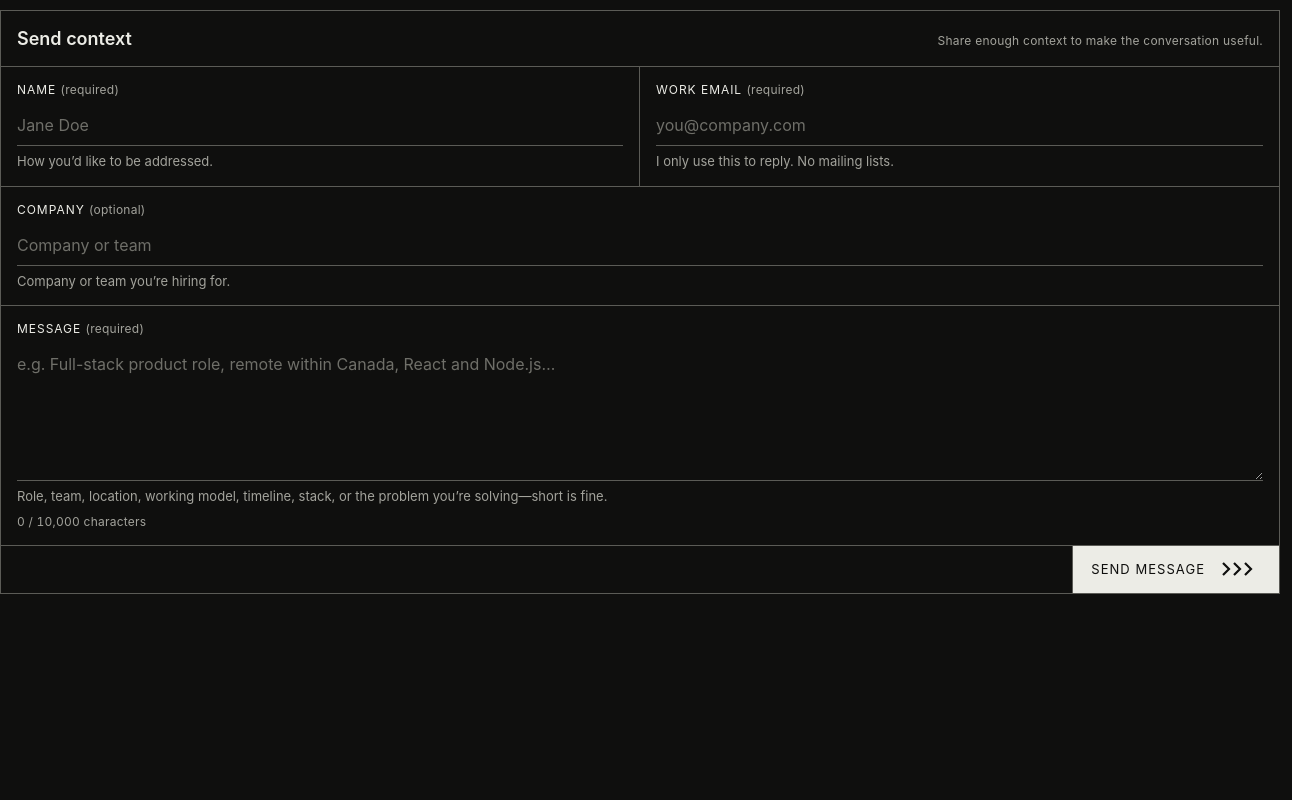
Test: ContactForm › should show validation error for invalid email
Type "Jane" into the field labelled "Name (required)" at {"x": 320, "y": 126}, box [17, 105, 623, 146]
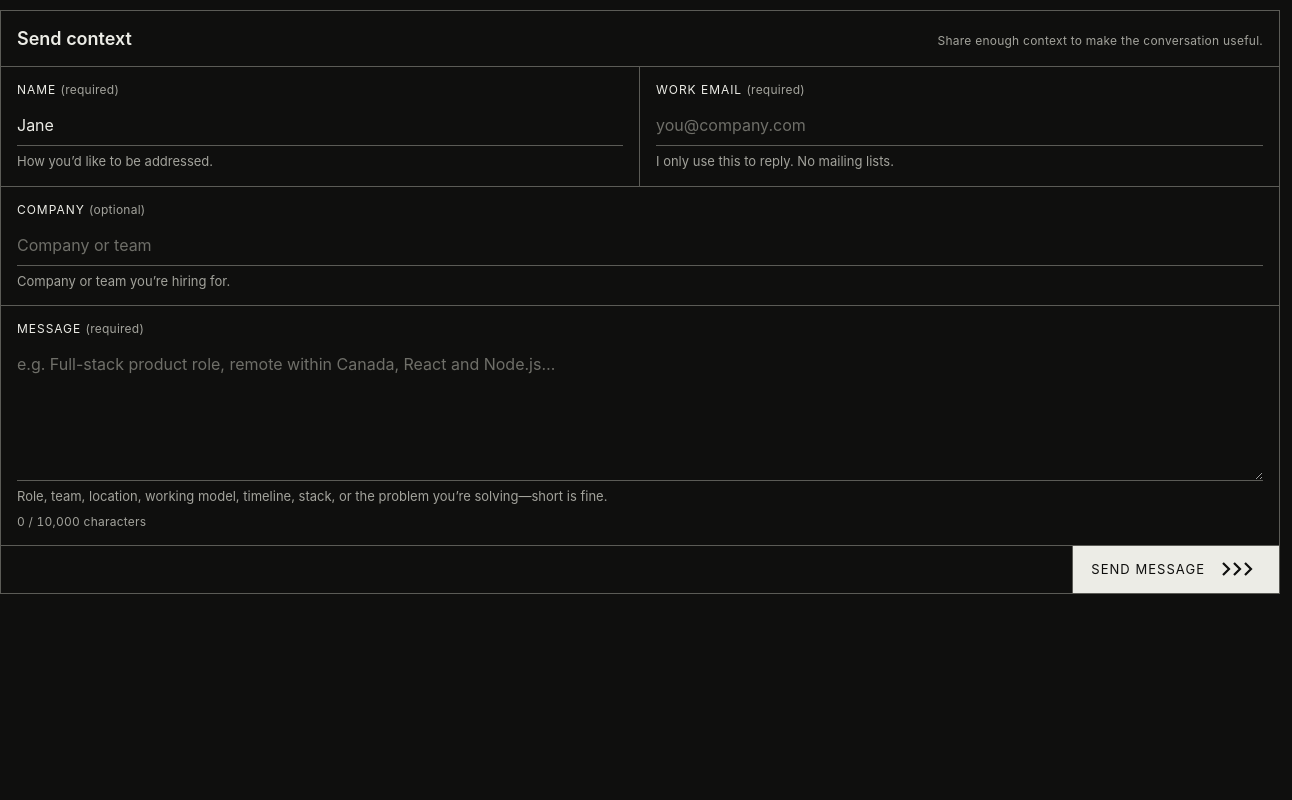
Type "bad-email" into the field labelled "Work email (required)" at {"x": 960, "y": 126}, box [656, 105, 1263, 146]
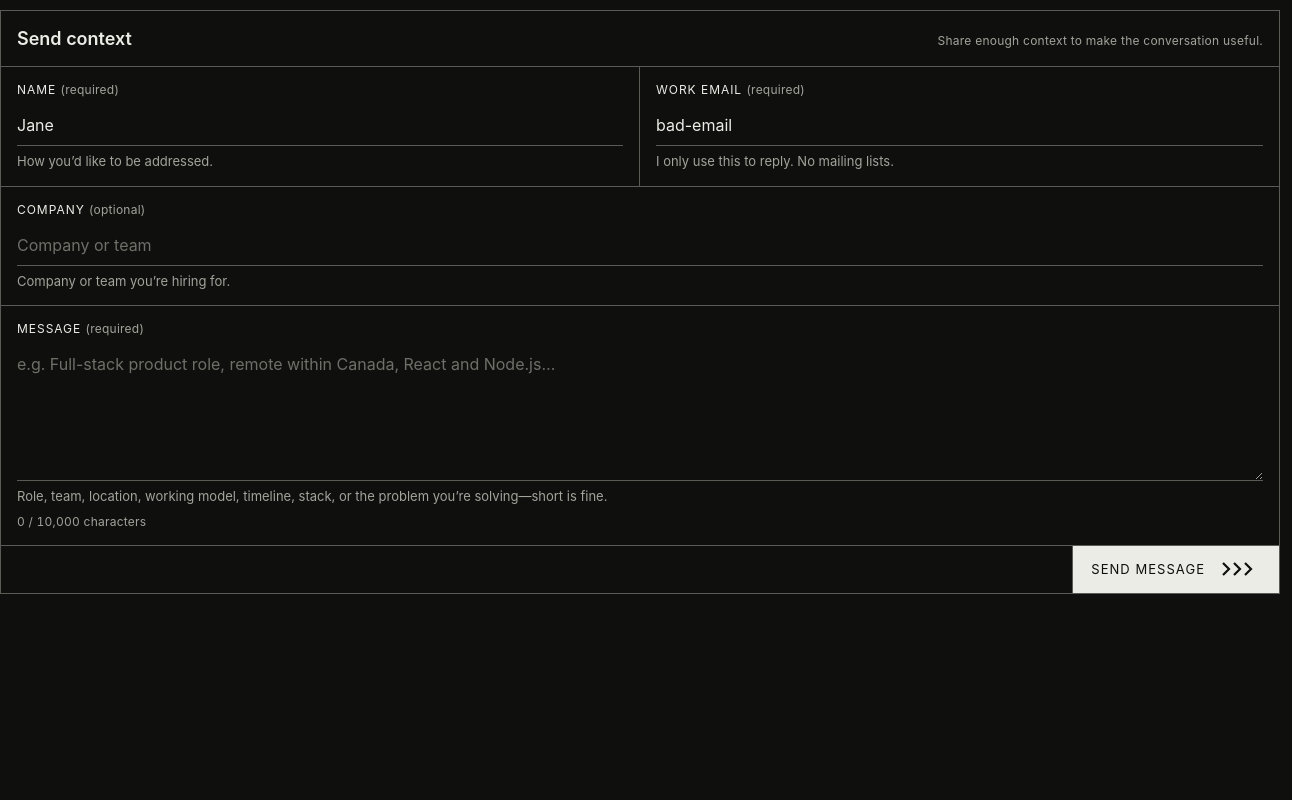
Replace the text in the text box labelled "Message (required)" with "Hello" at {"x": 640, "y": 412}, box [17, 344, 1263, 481]
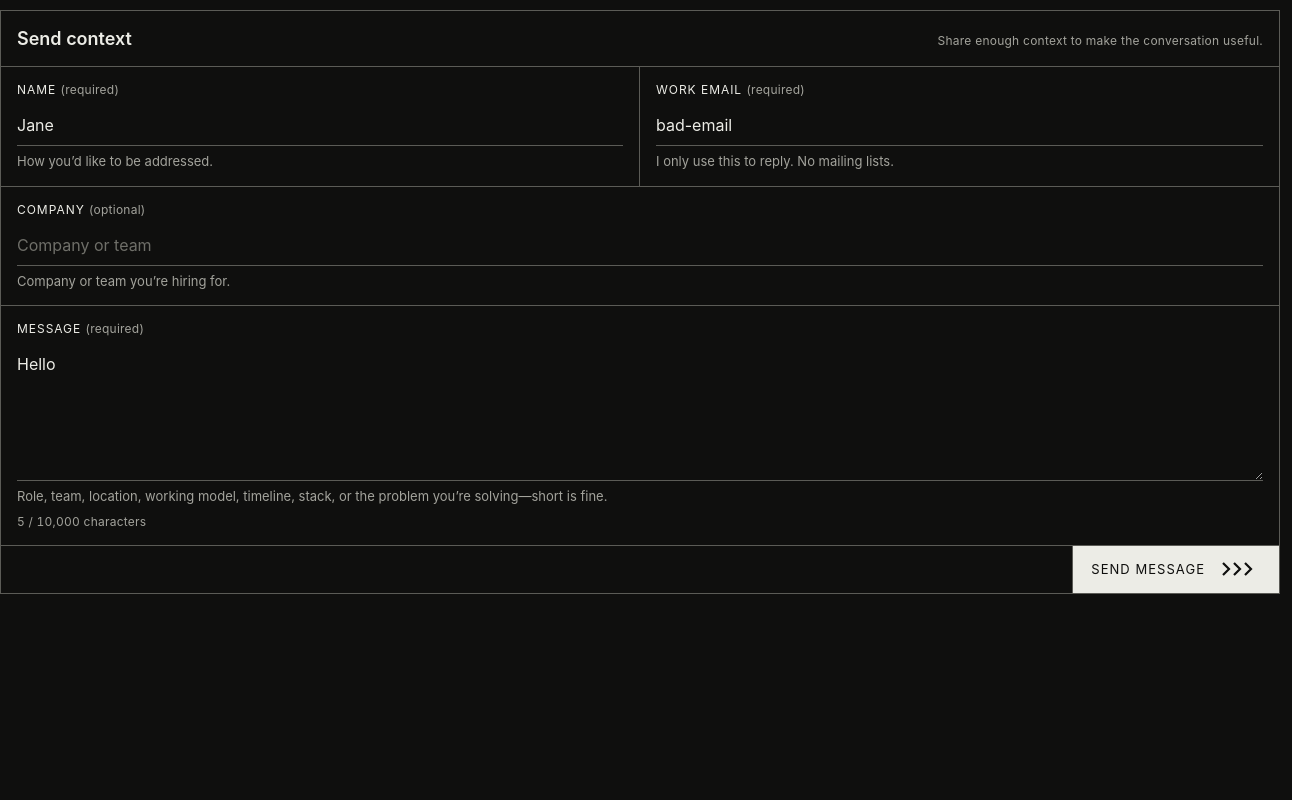
Click the button "Send message" at {"x": 1176, "y": 569}, box [1072, 546, 1279, 593]
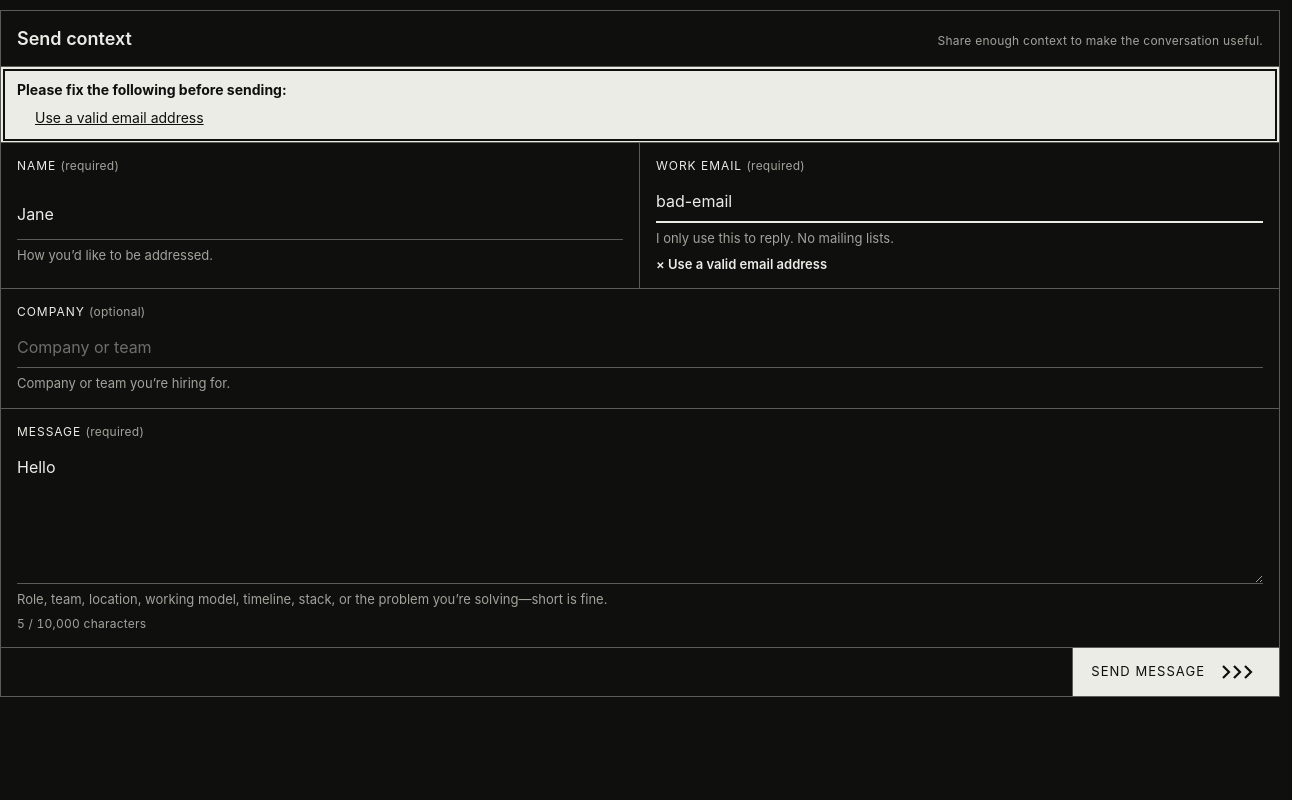
Expected: the link "Use a valid email address" is shown, [35, 106, 204, 130]
